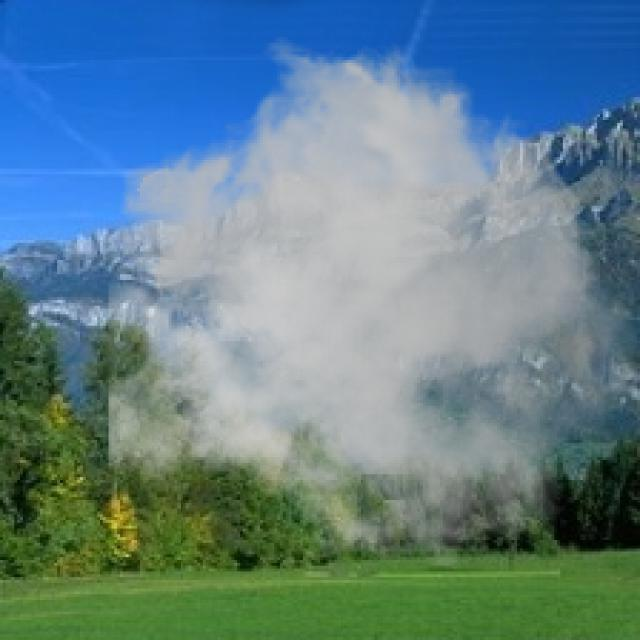Smoke: (108, 34, 638, 577)
